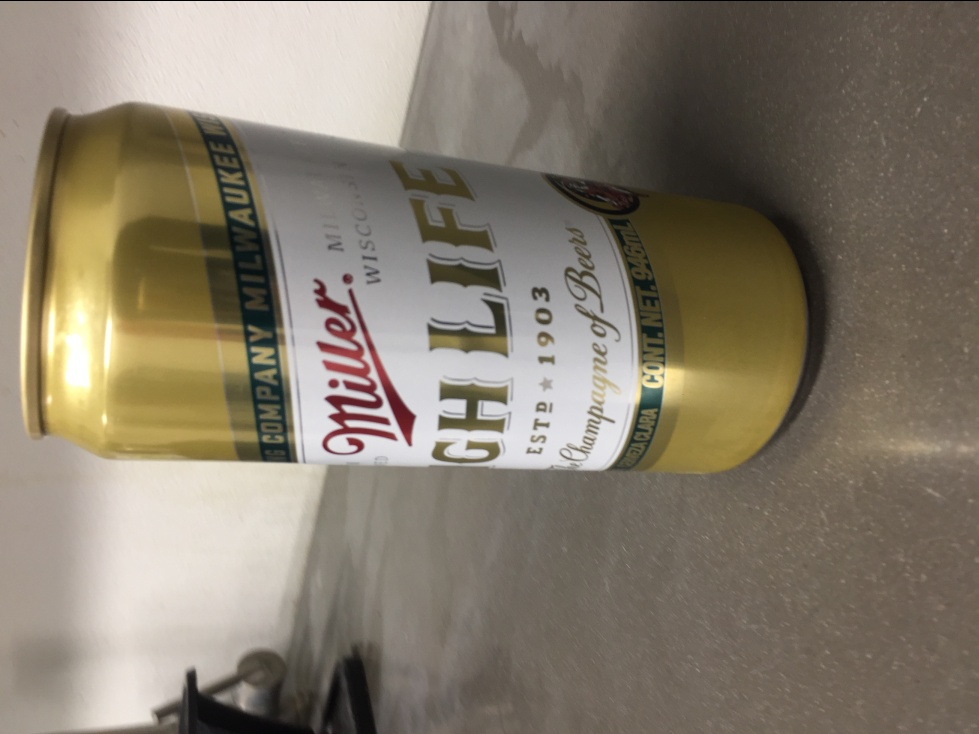miller: (18, 103, 812, 481)
